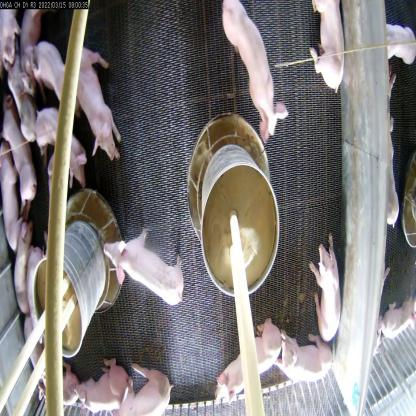Pig: (221, 0, 298, 151), (101, 230, 188, 320), (64, 32, 122, 160), (214, 313, 283, 409), (308, 235, 350, 349), (301, 0, 348, 101), (30, 102, 82, 184), (30, 27, 78, 110), (275, 329, 340, 389), (0, 104, 40, 196), (9, 53, 42, 149), (112, 370, 178, 415), (79, 362, 127, 415), (10, 224, 37, 316)
